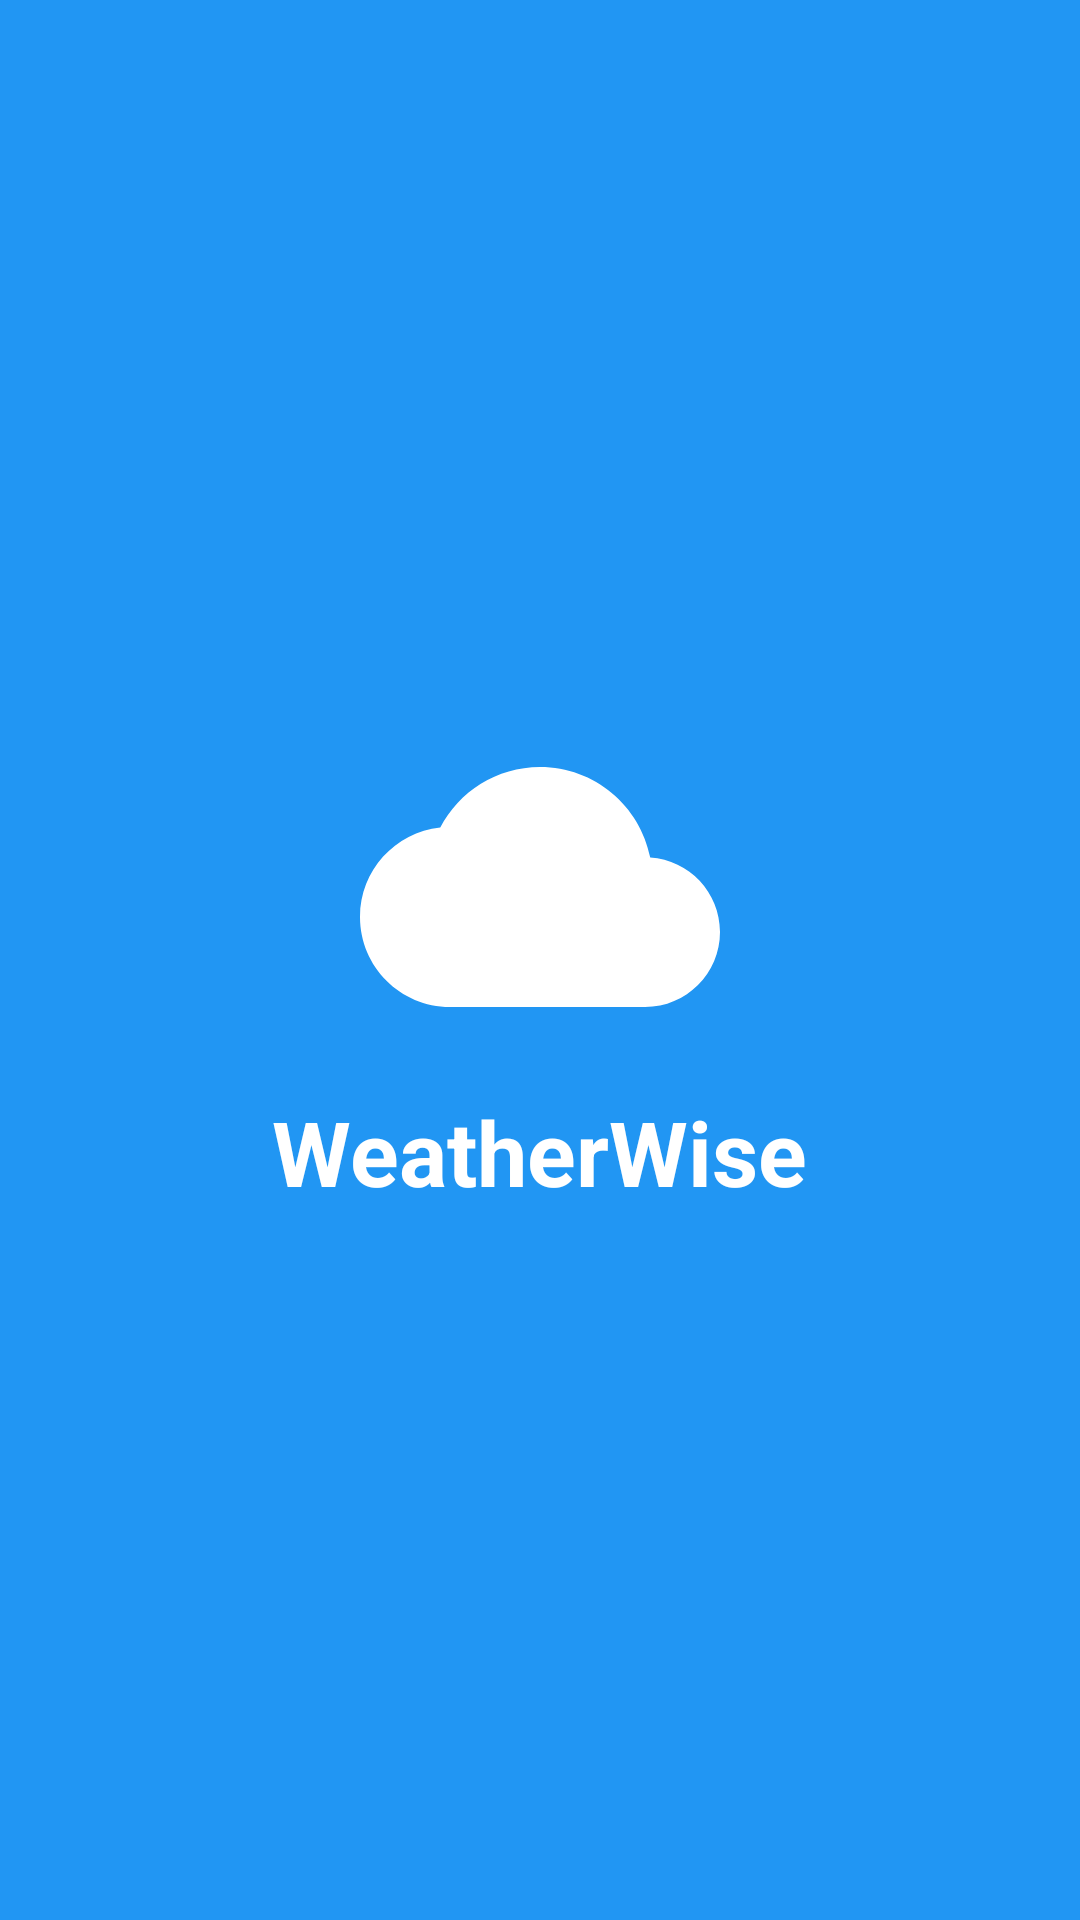

Icons on this 1080px×1920px Android screen, each with its box as (x1, y1, x2, y2):
cloud: (360, 767, 720, 1007)
